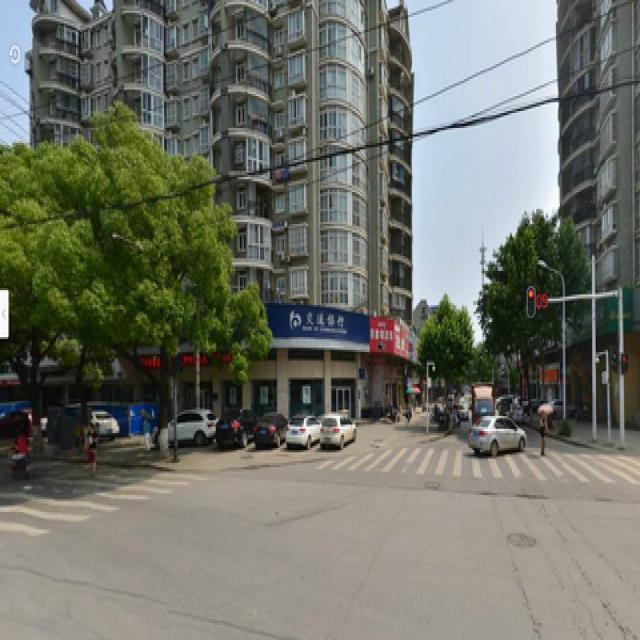cinn: (120, 147, 200, 444), (57, 145, 107, 405)
